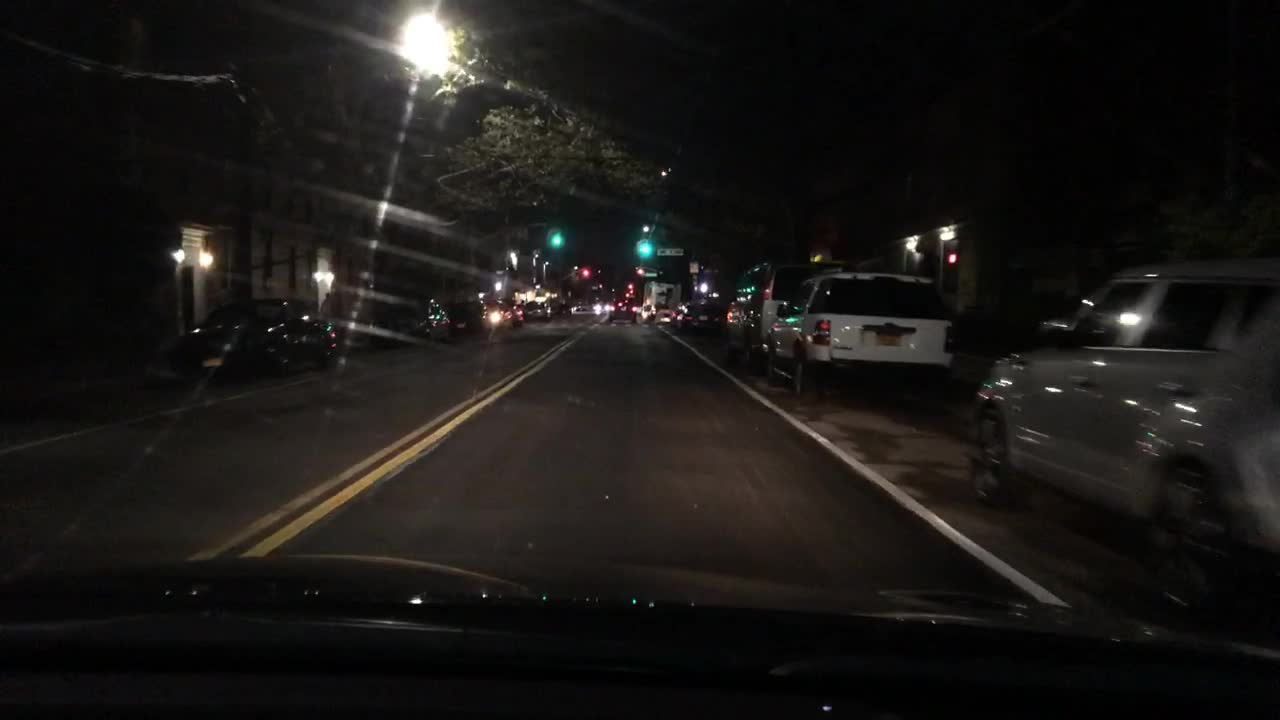car: (968, 261, 1278, 620), (762, 269, 964, 401), (176, 294, 341, 378), (721, 264, 836, 374), (369, 293, 453, 345), (445, 297, 504, 329), (671, 301, 724, 334), (489, 300, 526, 326), (605, 306, 637, 328), (545, 292, 573, 315), (521, 299, 553, 318), (592, 298, 615, 314), (656, 308, 672, 327)
traffic light: (637, 235, 649, 258), (552, 225, 562, 250), (697, 277, 710, 294), (582, 265, 591, 278)
traffic sign: (659, 245, 685, 255), (688, 260, 698, 271), (642, 272, 658, 278)
truck: (640, 282, 682, 319)
